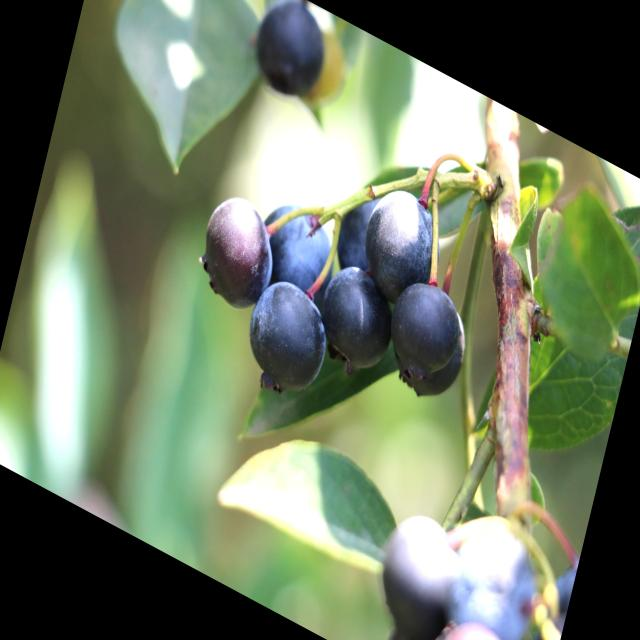blueberry: (232, 258, 342, 422), (349, 168, 457, 328), (359, 490, 474, 640), (187, 175, 289, 326), (305, 244, 406, 396), (246, 183, 349, 323), (376, 262, 472, 405), (244, 0, 338, 119), (403, 292, 478, 424), (324, 167, 401, 294)
